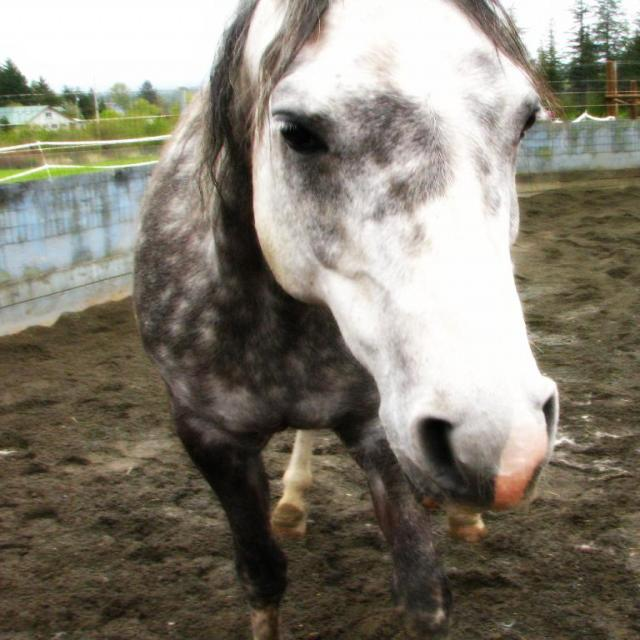Horse: (134, 0, 562, 640)
